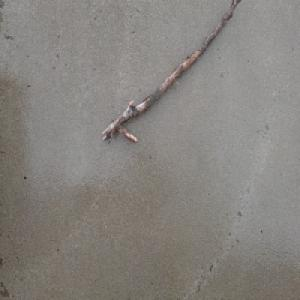Wood: (101, 0, 242, 144)
